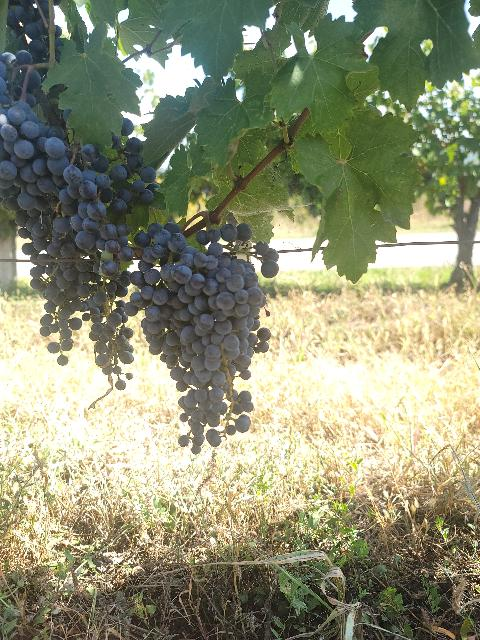grapes: (171, 222, 279, 371), (171, 305, 249, 454), (0, 101, 70, 239), (129, 222, 186, 354), (78, 261, 134, 395)
